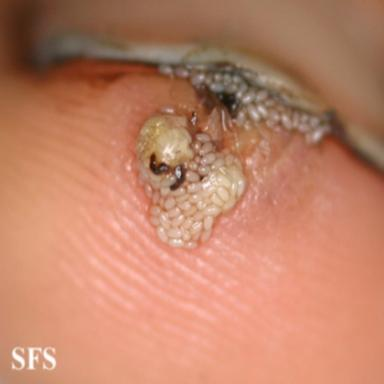Tungiasis: (130, 59, 334, 254)
